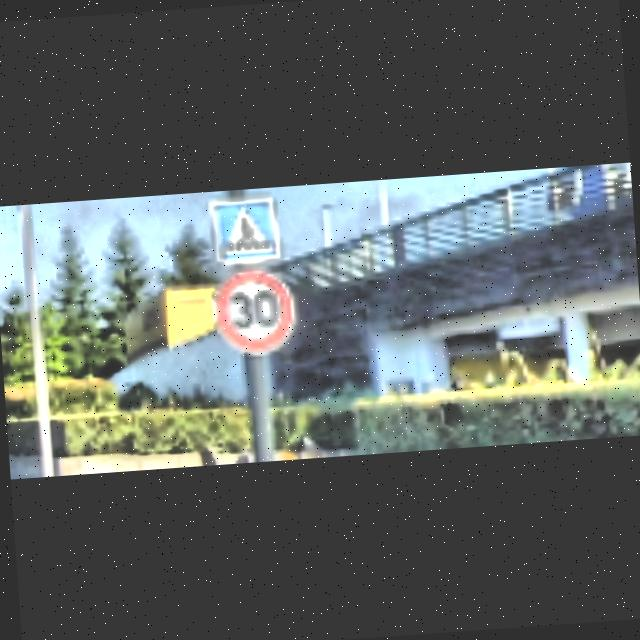speed_30: (210, 264, 300, 357)
